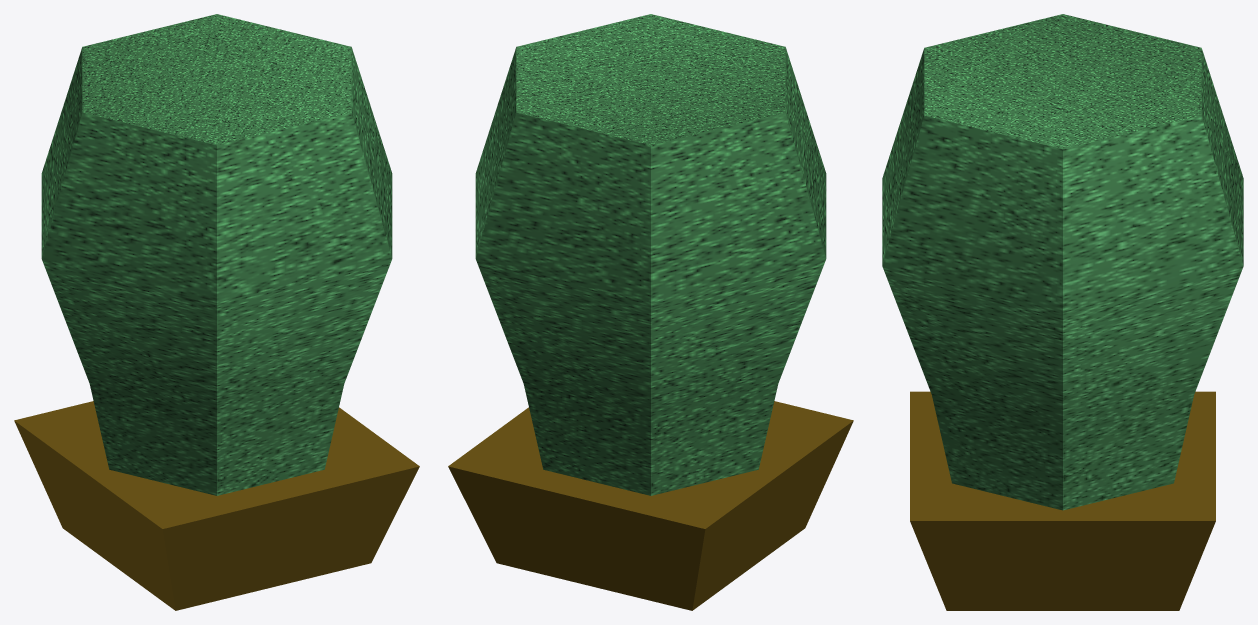
The model's file is Cactan.fbx.
3 views of the same model, side by side, from view 1: azimuth 30°, elevation 25°; view 2: azimuth 150°, elevation 25°; view 3: azimuth 270°, elevation 25° (orthographic). The views are drawn at different scales.
Visible parts, largest first — view 1: pCube2; view 2: pCube2; view 3: pCube2.
Part boxes in pixels (x1,y1,x2,y2): pCube2: (14, 14, 419, 610); pCube2: (448, 14, 853, 610); pCube2: (882, 14, 1243, 610).
Bounding box in the file's own units: 1.79 × 2.28 × 1.55.
2 materials, 1 textured.
